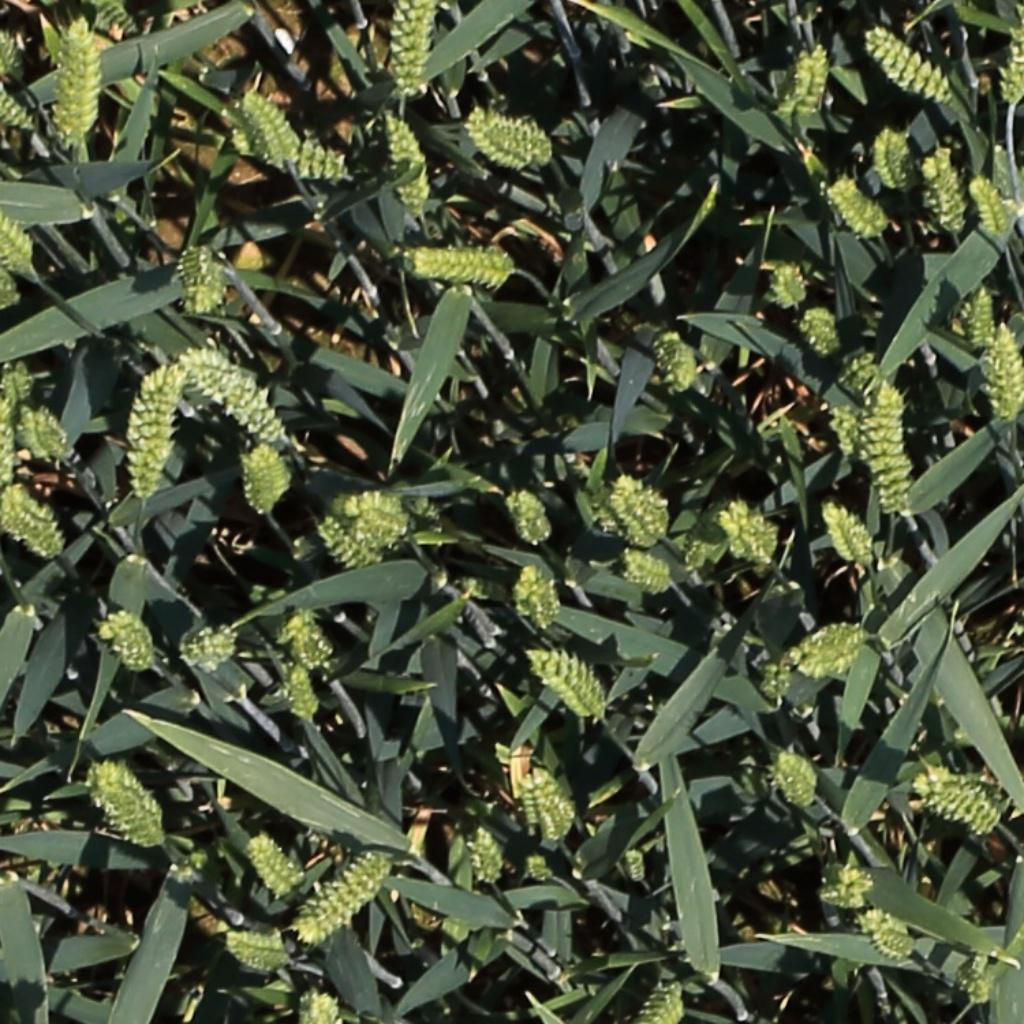0-0: (120, 356, 184, 516), (759, 626, 872, 703), (180, 352, 281, 438), (299, 853, 391, 947), (903, 760, 1007, 843), (457, 101, 558, 179), (55, 19, 115, 150), (88, 758, 170, 851), (866, 24, 957, 105), (831, 334, 888, 459), (399, 240, 520, 295), (591, 471, 676, 549), (863, 390, 907, 520), (239, 85, 300, 174), (383, 103, 430, 212), (527, 649, 608, 712), (331, 483, 415, 543), (390, 0, 438, 101), (517, 763, 575, 844), (682, 497, 746, 570), (247, 832, 307, 903), (239, 436, 293, 514), (968, 163, 1019, 244), (925, 141, 968, 237), (821, 498, 876, 572), (172, 237, 223, 316), (99, 607, 155, 678), (830, 172, 886, 240), (725, 504, 783, 569), (314, 517, 376, 576), (18, 399, 77, 461), (646, 331, 702, 396), (768, 744, 824, 808), (223, 930, 297, 975), (855, 906, 920, 957), (287, 602, 334, 671), (816, 860, 883, 908), (790, 301, 842, 361), (507, 484, 552, 550), (794, 39, 828, 124), (522, 559, 558, 638), (628, 977, 688, 1024), (0, 184, 31, 271), (877, 121, 913, 195), (455, 568, 510, 616), (957, 943, 995, 1010), (767, 256, 811, 310), (281, 661, 314, 732), (471, 821, 503, 894), (180, 629, 238, 667), (289, 982, 341, 1024), (1000, 19, 1024, 108), (0, 401, 20, 501), (623, 550, 675, 588), (973, 279, 996, 353), (0, 82, 34, 132), (1, 356, 38, 399), (621, 842, 652, 891), (0, 15, 17, 86), (0, 262, 16, 301)
